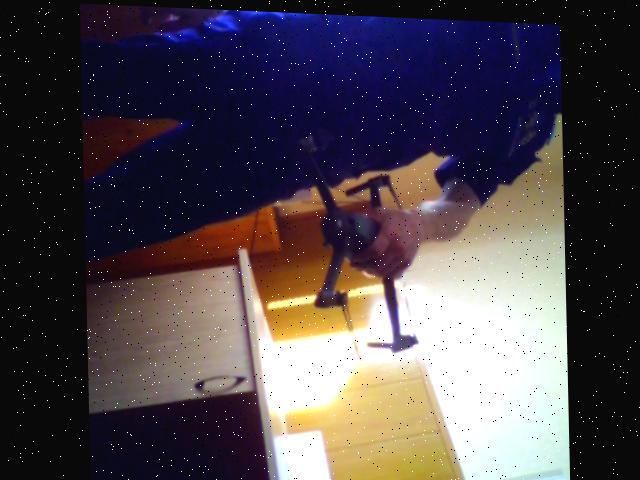drone: (283, 107, 437, 372)
